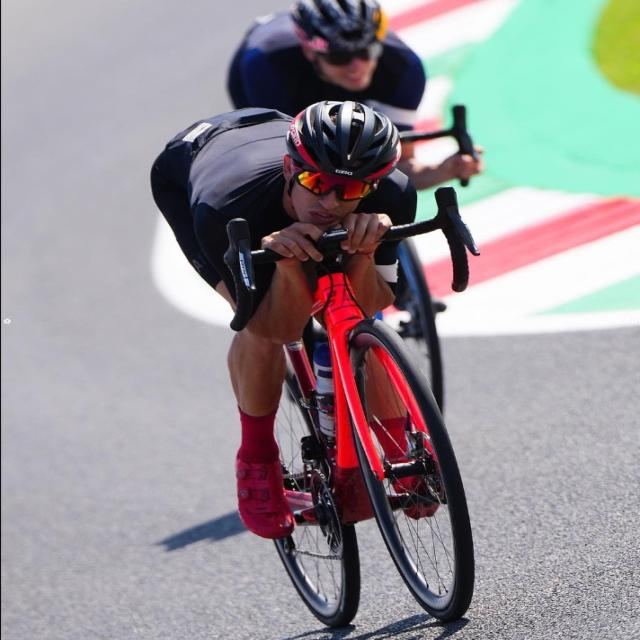illegal_helmet: (276, 97, 407, 235)
